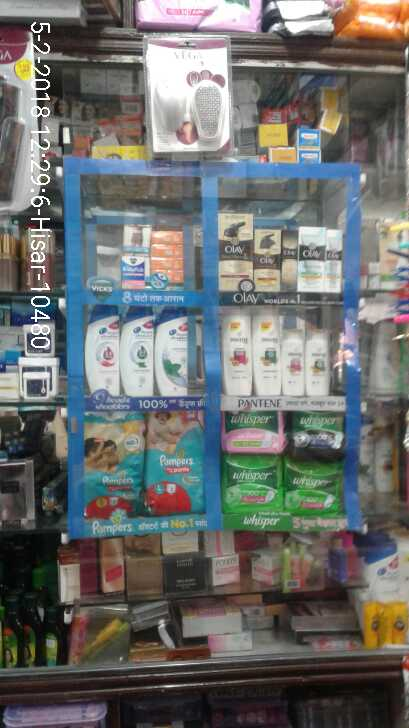beauty: (216, 213, 255, 297), (155, 306, 191, 394), (121, 305, 154, 394), (85, 303, 116, 396), (221, 308, 250, 398), (251, 222, 284, 293), (252, 308, 277, 396), (295, 223, 324, 298), (305, 328, 329, 396), (283, 325, 303, 391), (326, 221, 342, 293)
pharmacy: (78, 412, 142, 512), (145, 412, 203, 515), (223, 455, 285, 509), (286, 452, 338, 513), (223, 408, 284, 454), (285, 405, 342, 447), (119, 254, 145, 290)
